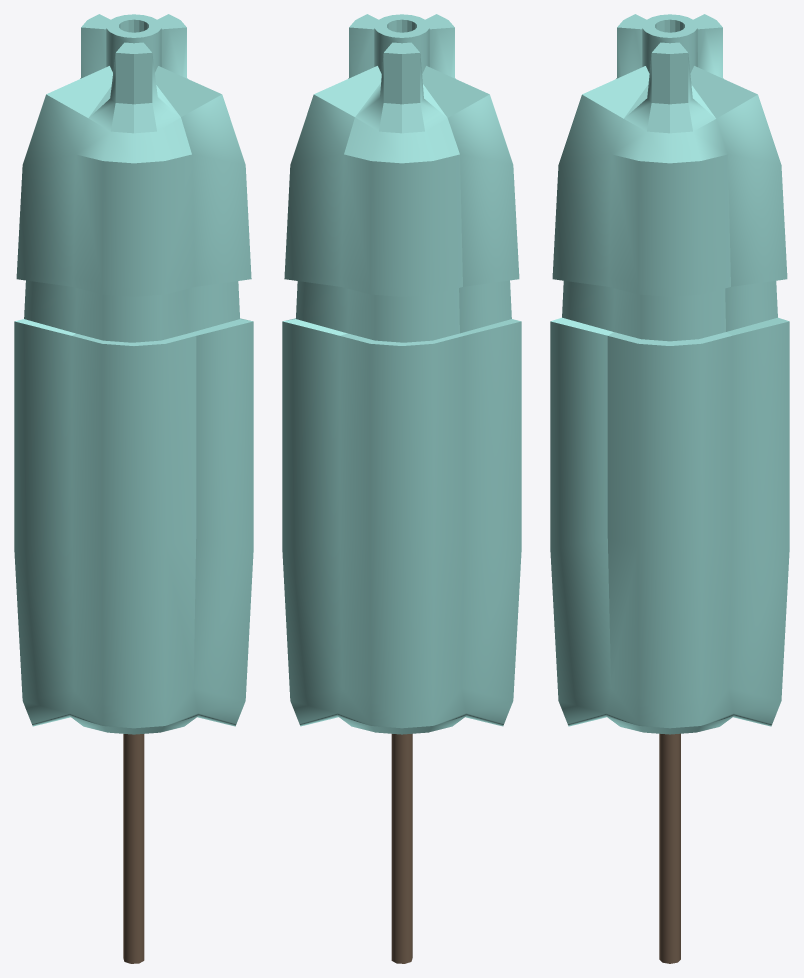
File: S_tower.fbx
3 renders of one model, left to right at view 1: azimuth 30°, elevation 25°; view 2: azimuth 150°, elevation 25°; view 3: azimuth 270°, elevation 25°, orthographic.
Visible parts, largest first — view 1: Tower; view 2: Tower; view 3: Tower.
Boxes of the visible parts, box(x1,y1,x2,y2) form: Tower: box(14, 14, 253, 963); Tower: box(282, 14, 521, 963); Tower: box(550, 14, 789, 963).
Bounding box in the file's own units: 463 × 2058 × 479.
